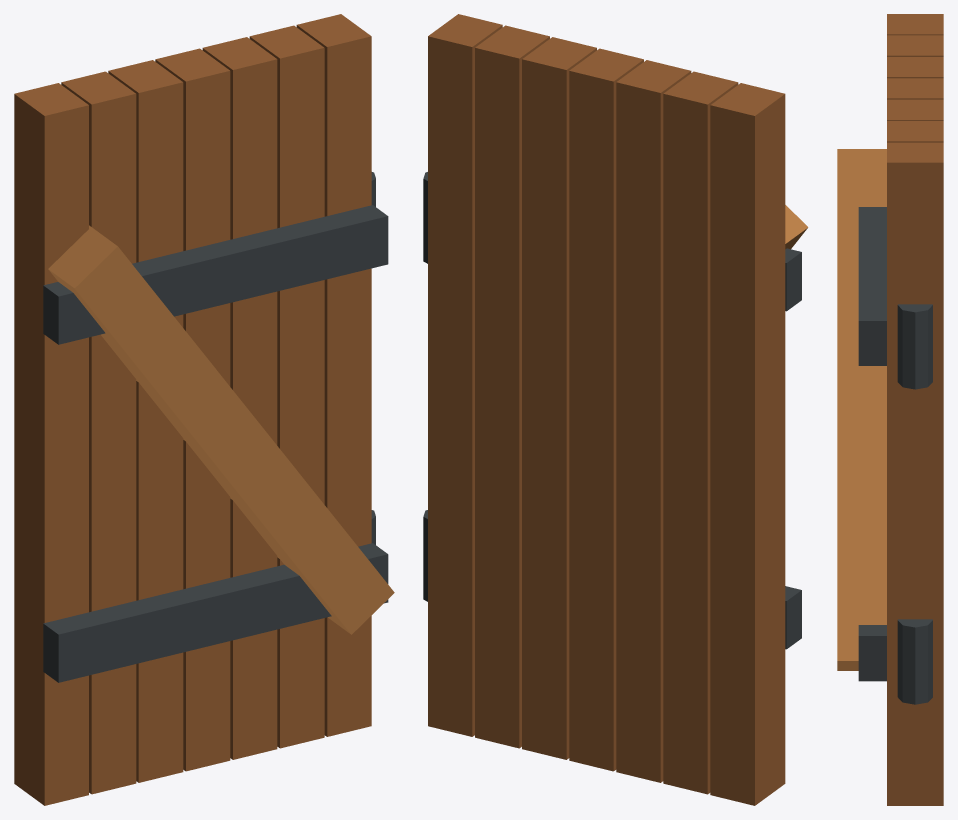
Rendered from 851_diagonal_braced_shutter_leaf.fbx.
3 renders of one model, left to right at view 1: azimuth 30°, elevation 25°; view 2: azimuth 150°, elevation 25°; view 3: azimuth 270°, elevation 25°, orthographic. The views are drawn at different scales.
Visible parts, largest first — view 1: 851_diagonal_braced_shutter_leaf; view 2: 851_diagonal_braced_shutter_leaf; view 3: 851_diagonal_braced_shutter_leaf.
Part boxes in pixels (left/top/right/bottom): 851_diagonal_braced_shutter_leaf: left=14, top=14, right=394, bottom=805; 851_diagonal_braced_shutter_leaf: left=423, top=14, right=808, bottom=805; 851_diagonal_braced_shutter_leaf: left=837, top=14, right=943, bottom=805.
Bounding box in the file's own units: 0.525 × 1 × 0.15.
Materials: 1 (1 with a texture image).
